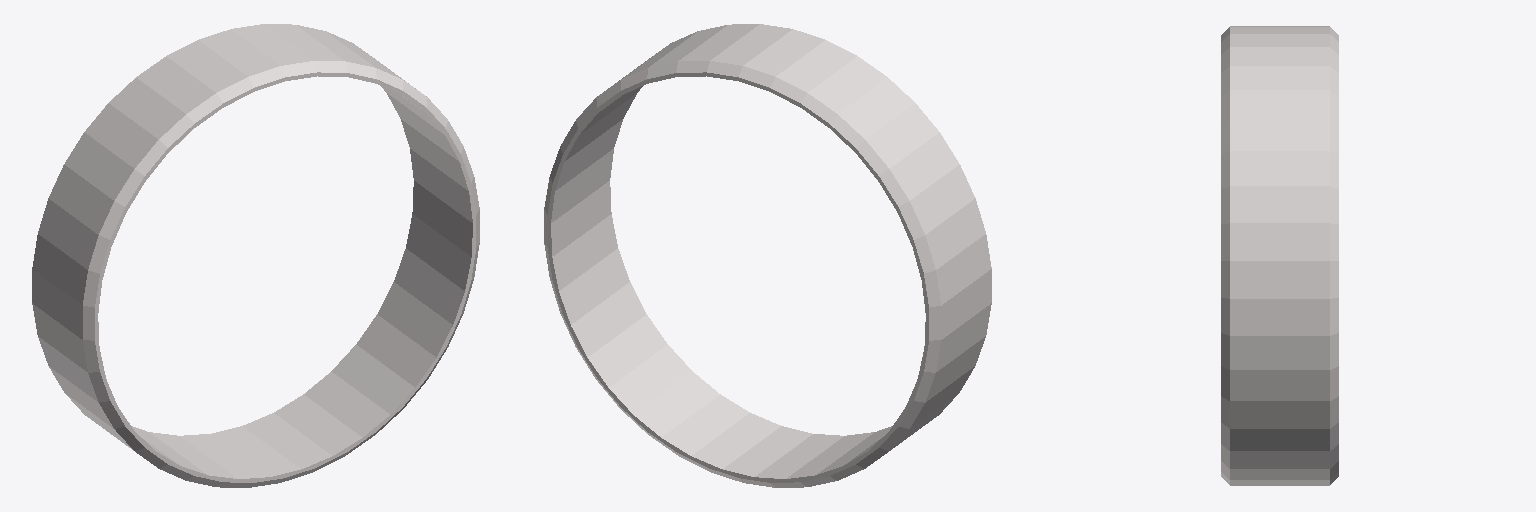
Rendered from ring_big.obj.
The picture shows the model from 3 angles: view 1: azimuth 30°, elevation 25°; view 2: azimuth 150°, elevation 25°; view 3: azimuth 270°, elevation 25°; orthographic projection.
Visible parts, largest first — view 1: ring_big_ring_big.001; view 2: ring_big_ring_big.001; view 3: ring_big_ring_big.001.
Part boxes in pixels (bbox=[...]): ring_big_ring_big.001: bbox=[32, 24, 479, 487]; ring_big_ring_big.001: bbox=[544, 24, 991, 487]; ring_big_ring_big.001: bbox=[1221, 26, 1338, 485].
Bounding box in the file's own units: 0.0889 × 0.0892 × 0.023.